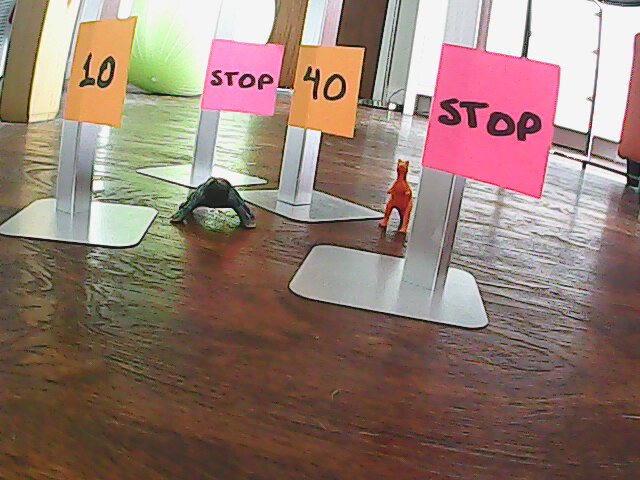10: (68, 22, 126, 117)
40: (297, 46, 359, 132)
dinosaur: (379, 157, 412, 237)
stop: (421, 67, 556, 175), (209, 42, 278, 115)
turtle: (162, 174, 261, 236)
